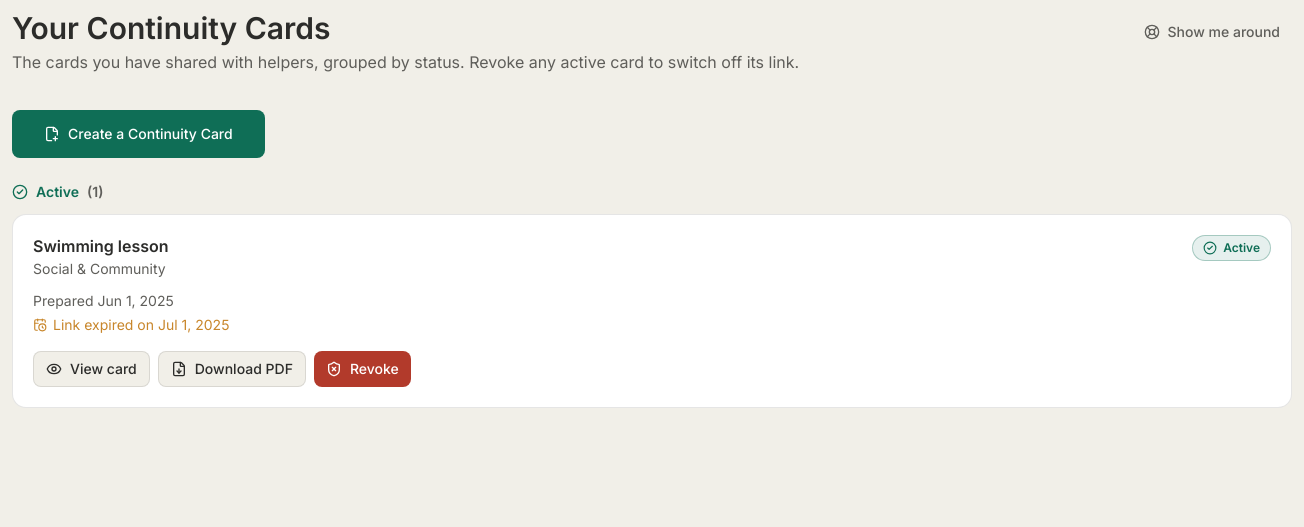
CardHistoryList › surfaces an inline error when revoke fails, and does not flip the row
Check: the heading "Swimming lesson" is shown, box [33,235,169,257]
Step 1. Click the button "Revoke" → {"x": 362, "y": 369}, box [314,351,411,387]
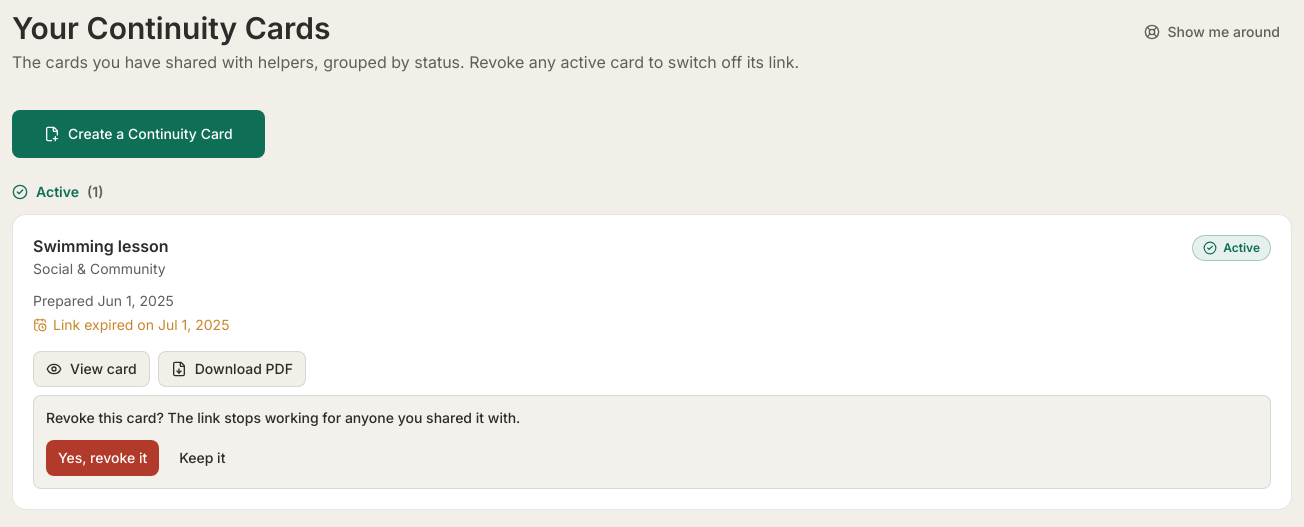
Step 2. Click the button "Yes, revoke it" → {"x": 103, "y": 458}, box [46,440,159,476]
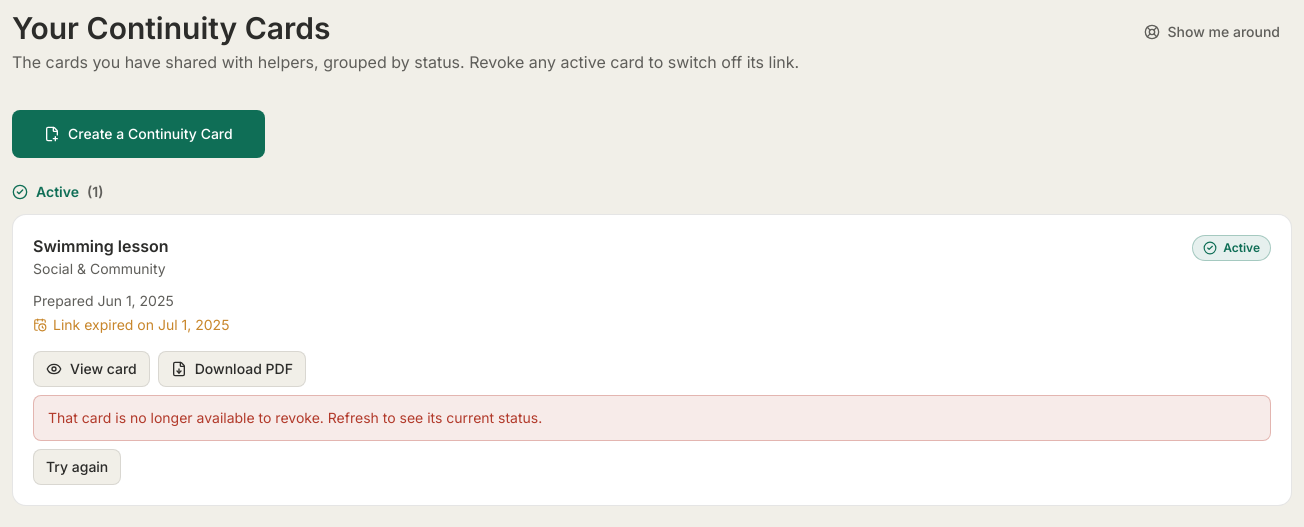
Check: the message shows "no longer available to revoke", box [48,409,542,426]
